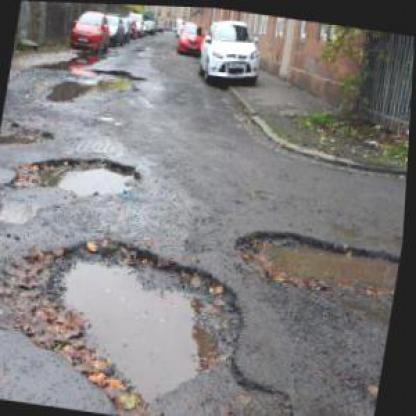pothole: (0, 216, 266, 415), (229, 218, 403, 304), (4, 142, 147, 210), (86, 62, 147, 97), (43, 71, 92, 108)
